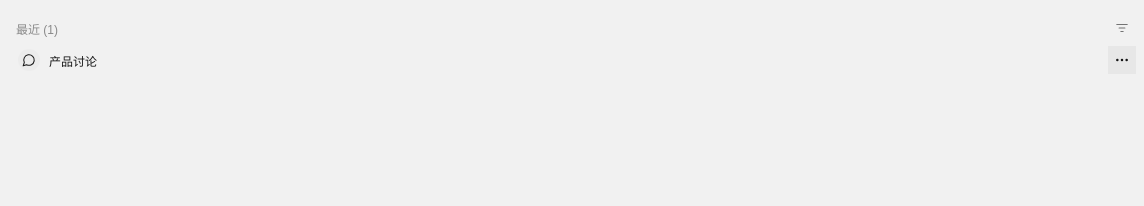
Test: RecentSessions › opens a compact filter panel with type, context and time controls
Click the button named "筛选最近对话": (1122, 28) [1108,14,1136,42]
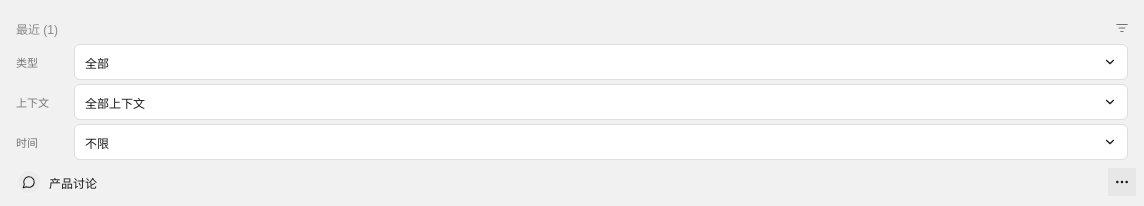
Expected: the label named "对话类型" holds "all", [16,44,1128,80]
Expected: the label named "对话上下文" is empty, [16,84,1128,120]
Expected: the label named "更新时间" holds "all", [16,124,1128,160]
